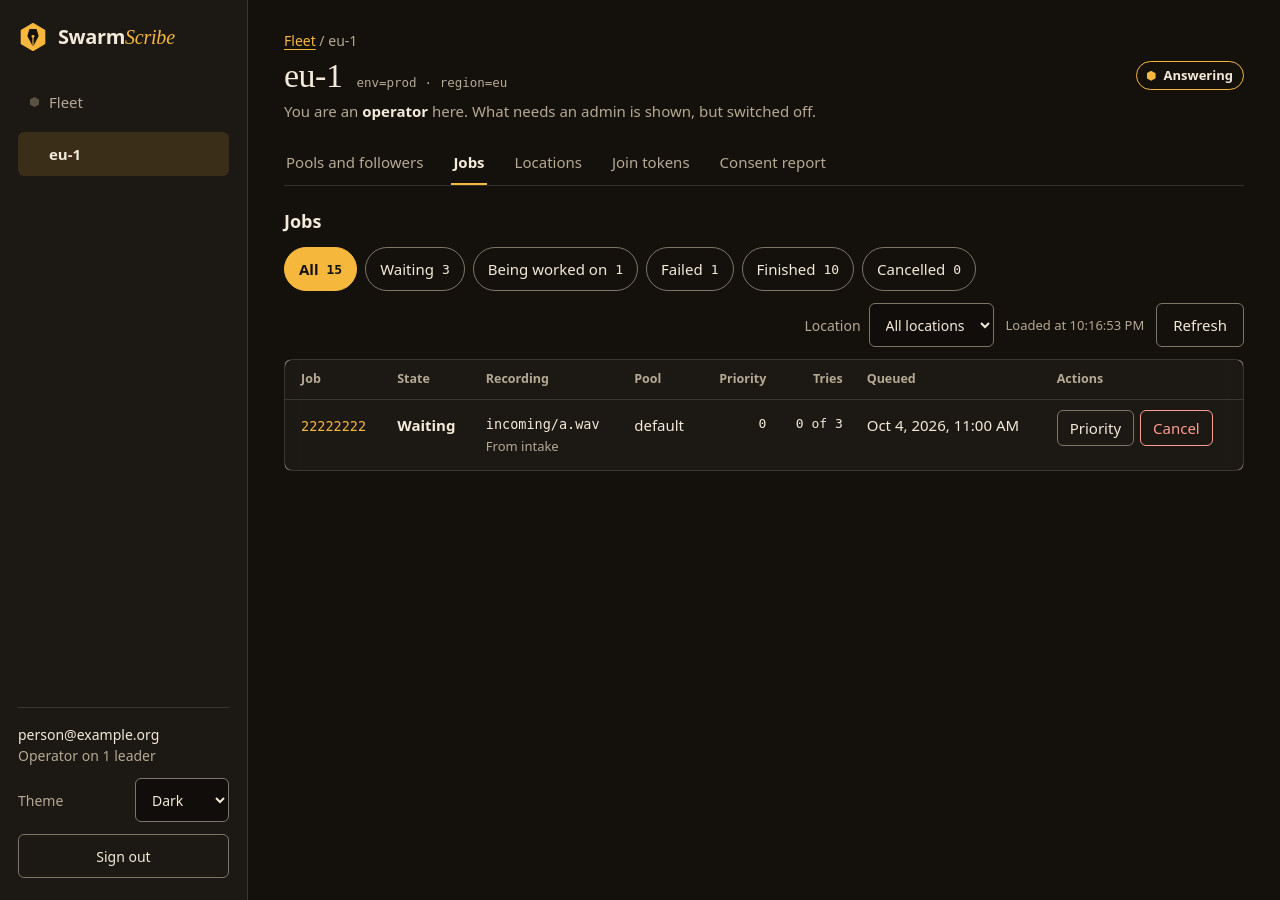
Test: jobs tab › sets a job's priority as an integer
Click the button with aria-label "Priority of job 22222222". click: [1095, 428]
box: [1057,410,1134,446]
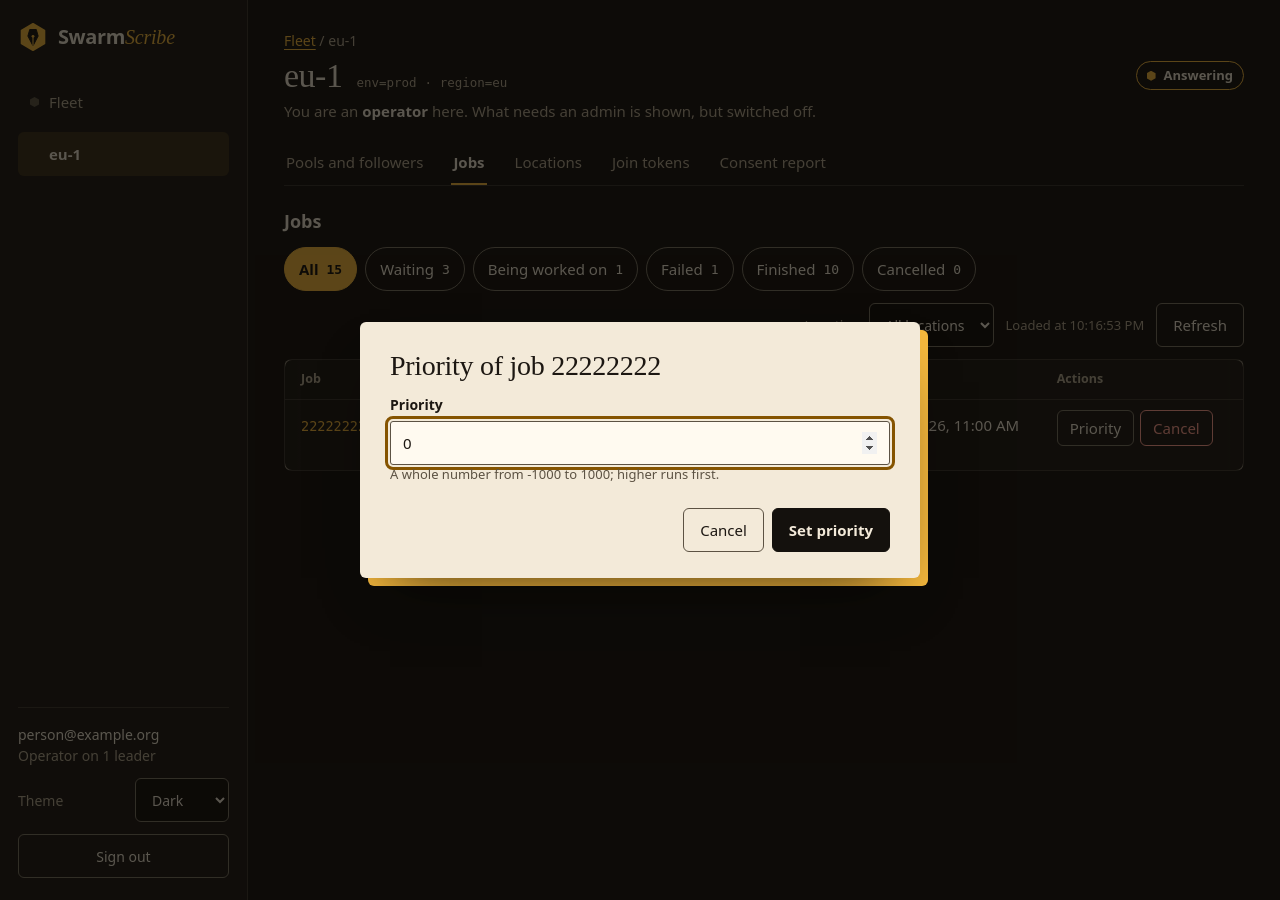
Replace the text in the number field labelled "Priority" with "5". click: [640, 443]
box: [390,421,890,465]
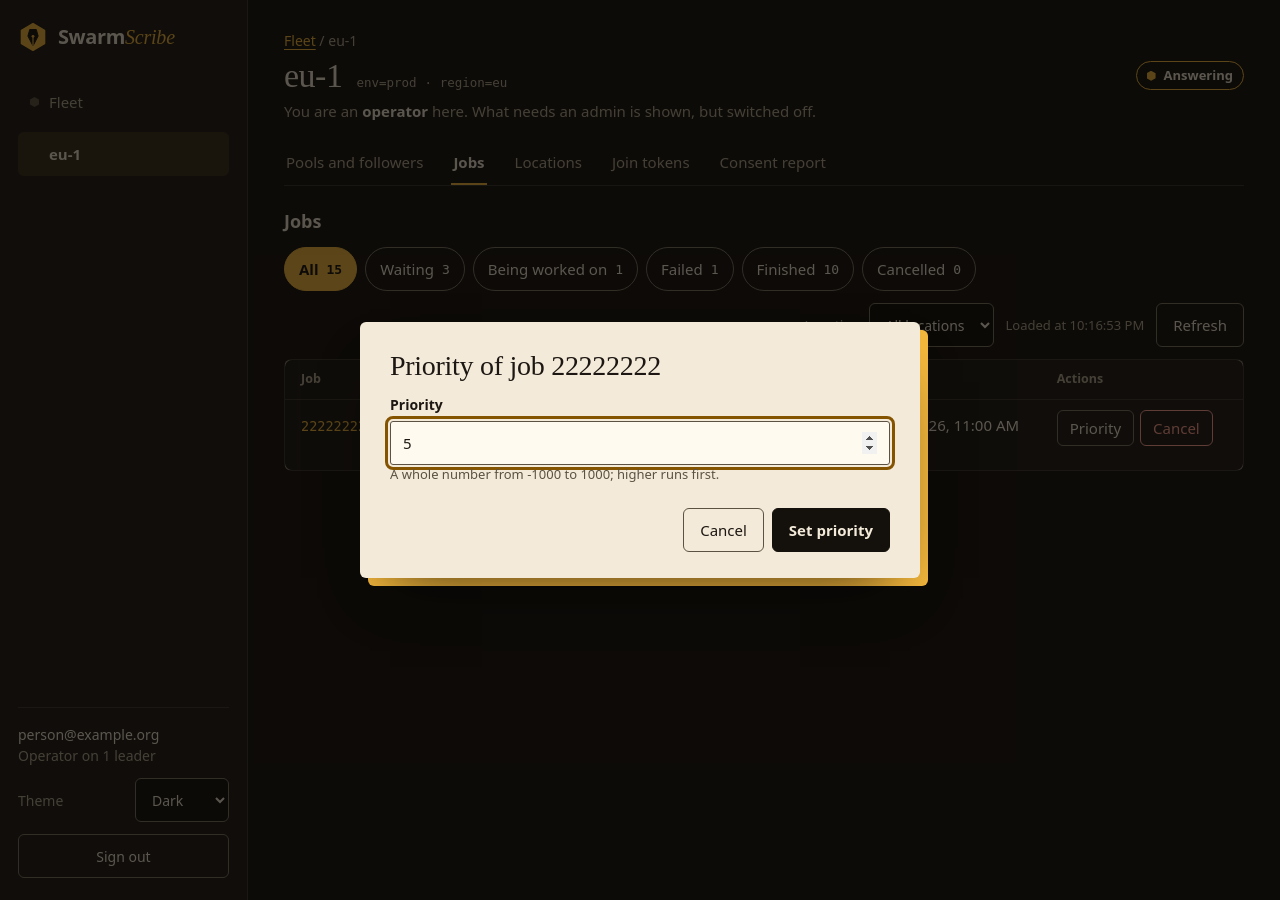
Click the button "Set priority". click: [831, 530]
box: [772,508,890,552]
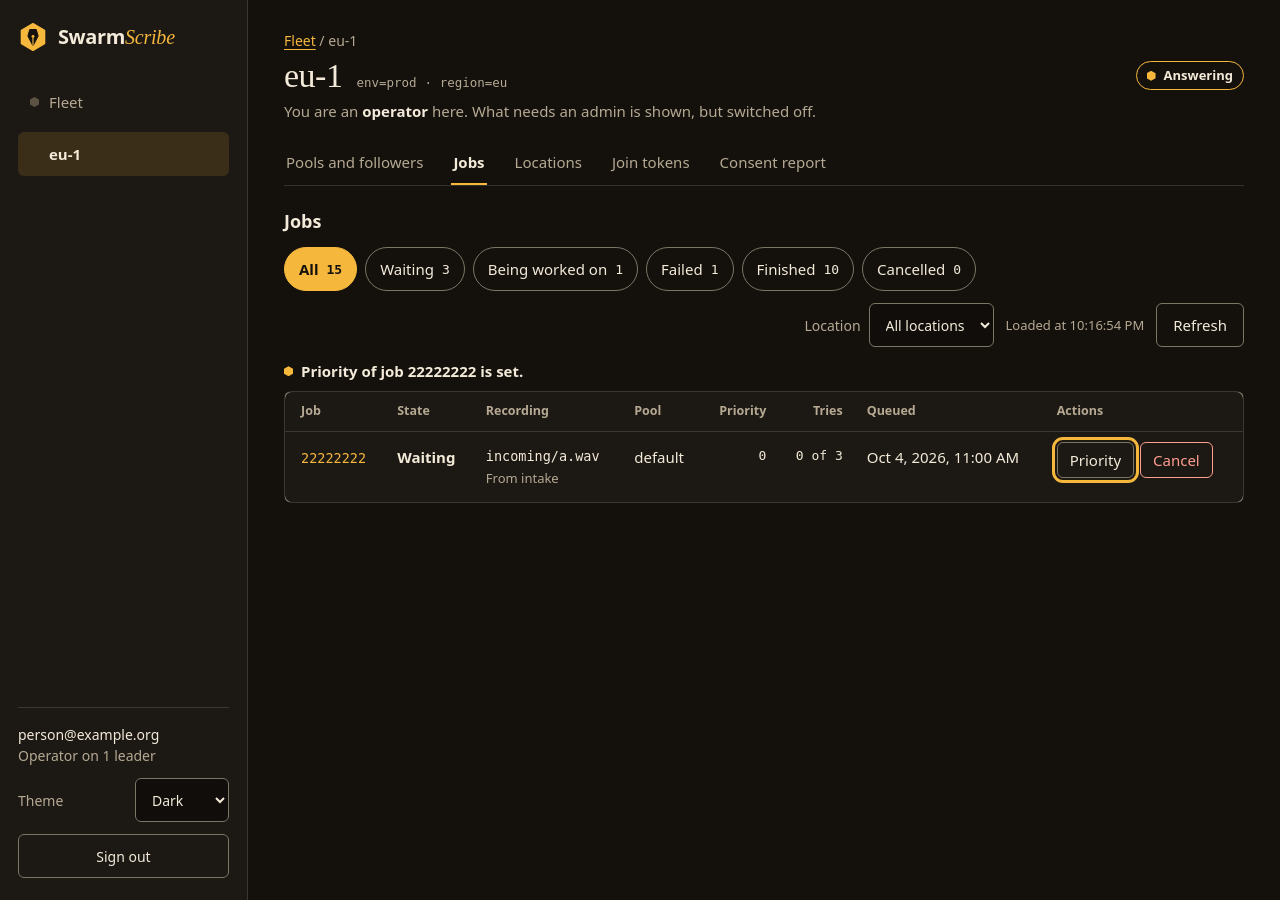
Expected: the text "Priority of job 22222222 is set." is shown, [301,361,523,381]
